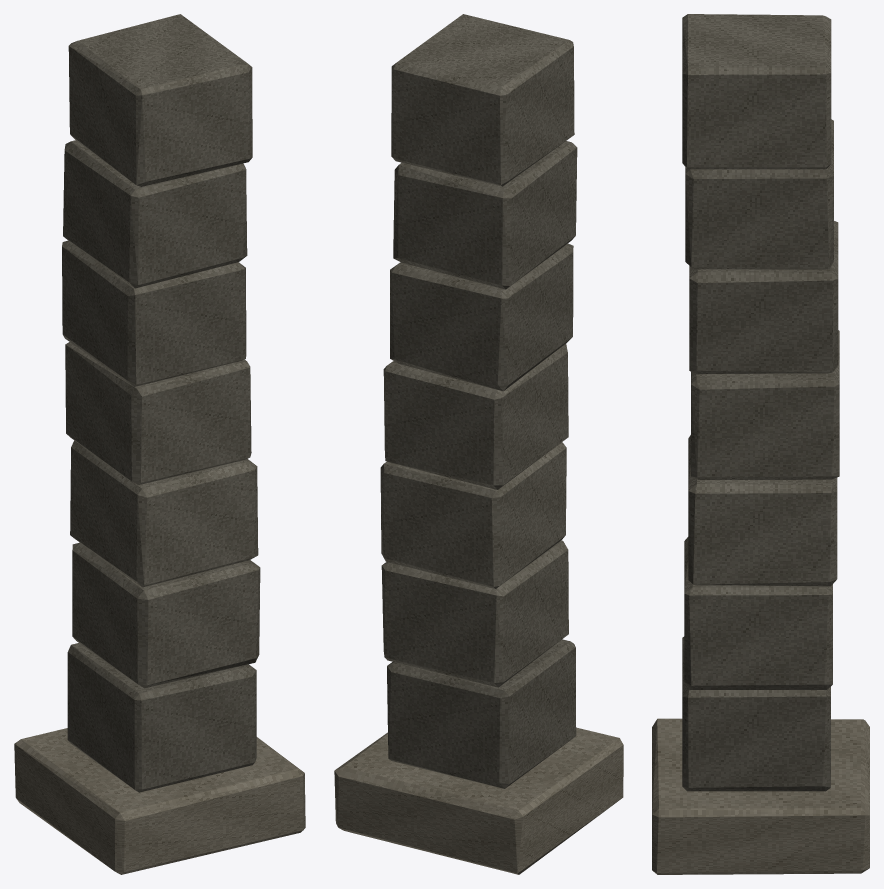
Rendered from env_ruin_pillars_01_square_tall.glb.
3 views of the same model, side by side, from view 1: azimuth 30°, elevation 25°; view 2: azimuth 150°, elevation 25°; view 3: azimuth 270°, elevation 25° (orthographic). The views are drawn at different scales.
Size of the model in its own units: 0.62 by 2.4 by 0.6.
1 material, 1 textured.
